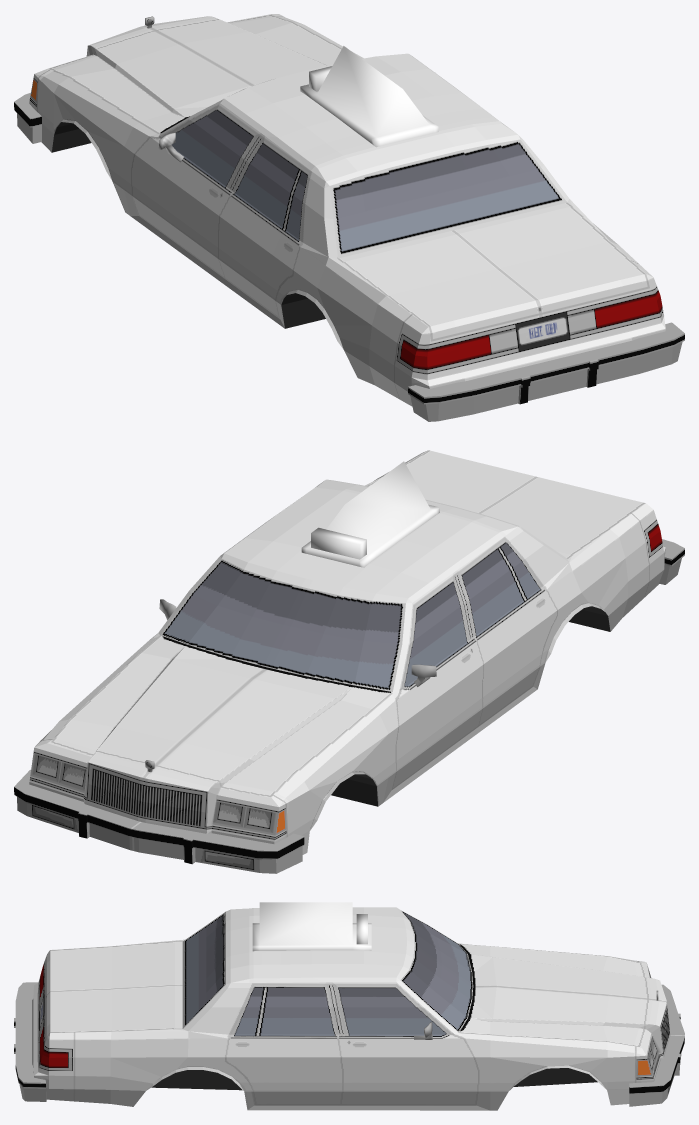
Rendered from 85lesabretaxi2.fbx.
3 renders of one model, top to bottom at view 1: azimuth 30°, elevation 25°; view 2: azimuth 150°, elevation 25°; view 3: azimuth 270°, elevation 25°, orthographic. The views are drawn at different scales.
Parts seen in each view (by area): view 1: 85lesaber; view 2: 85lesaber; view 3: 85lesaber.
Part boxes in pixels (bbox=[...]): 85lesaber: bbox=[14, 14, 684, 421]; 85lesaber: bbox=[14, 450, 684, 873]; 85lesaber: bbox=[14, 902, 684, 1110].
Bounding box in the file's own units: 2.07 × 1.45 × 5.53.
